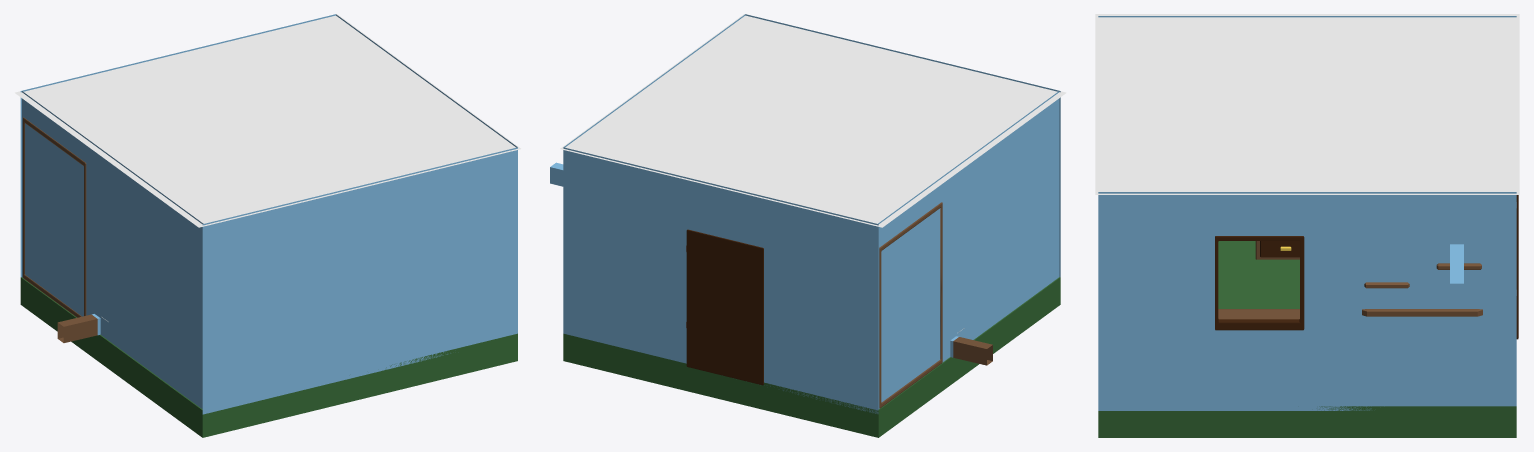
Rendered from Portal.fbx.
The picture shows the model from 3 angles, left to right: view 1: azimuth 30°, elevation 25°; view 2: azimuth 150°, elevation 25°; view 3: azimuth 270°, elevation 25°; orthographic projection. The views are drawn at different scales.
Visible parts, largest first — view 1: Plane.001, Plane.004, Plane, Cube.005, Cube.002, Plane.003; view 2: Plane.004, Plane.003, Plane, Cube.005, Cube.010, Cube.002, Plane.001, Plane.002; view 3: Plane.002, Plane.004, Cube.005, Cube.011, Cube.014, Cube.007, Plane, Cube.010.
Part boxes in pixels (x1=…): Plane.001: x1=202, y1=147, x2=517, y2=414; Plane.004: x1=15, y1=14, x2=520, y2=227; Plane: x1=22, y1=91, x2=203, y2=408; Cube.005: x1=20, y1=277, x2=517, y2=437; Cube.002: x1=23, y1=117, x2=86, y2=317; Plane.003: x1=20, y1=14, x2=335, y2=277; Plane.004: x1=560, y1=14, x2=1066, y2=227; Plane.003: x1=563, y1=147, x2=878, y2=413; Plane: x1=878, y1=91, x2=1059, y2=408; Cube.005: x1=563, y1=277, x2=1060, y2=437; Cube.010: x1=686, y1=229, x2=763, y2=385; Cube.002: x1=879, y1=202, x2=942, y2=408; Plane.001: x1=745, y1=14, x2=1060, y2=277; Plane.002: x1=550, y1=14, x2=745, y2=186; Plane.002: x1=1098, y1=192, x2=1516, y2=410; Plane.004: x1=1095, y1=14, x2=1519, y2=194; Cube.005: x1=1098, y1=241, x2=1516, y2=437; Cube.011: x1=1215, y1=236, x2=1304, y2=330; Cube.014: x1=1362, y1=309, x2=1482, y2=316; Cube.007: x1=1255, y1=241, x2=1299, y2=259; Plane: x1=1098, y1=16, x2=1516, y2=17; Cube.010: x1=1516, y1=195, x2=1518, y2=339.
Size of the model in its own units: 737 by 389 by 608.
